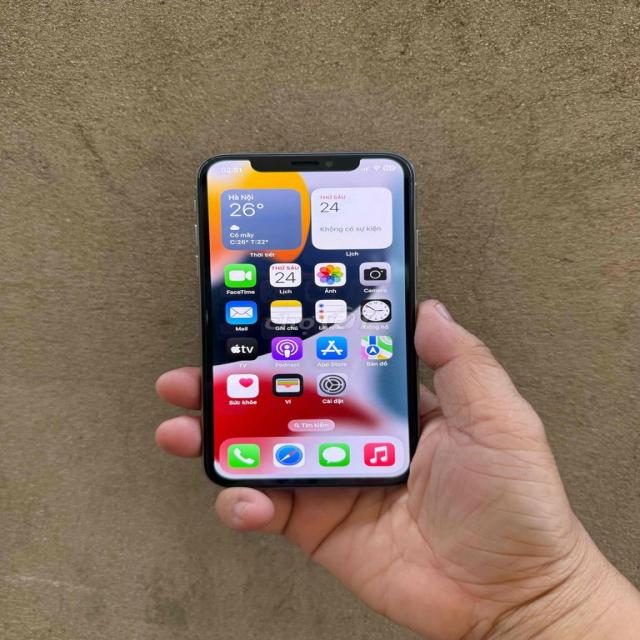gen_x_xs: (195, 151, 423, 488)
